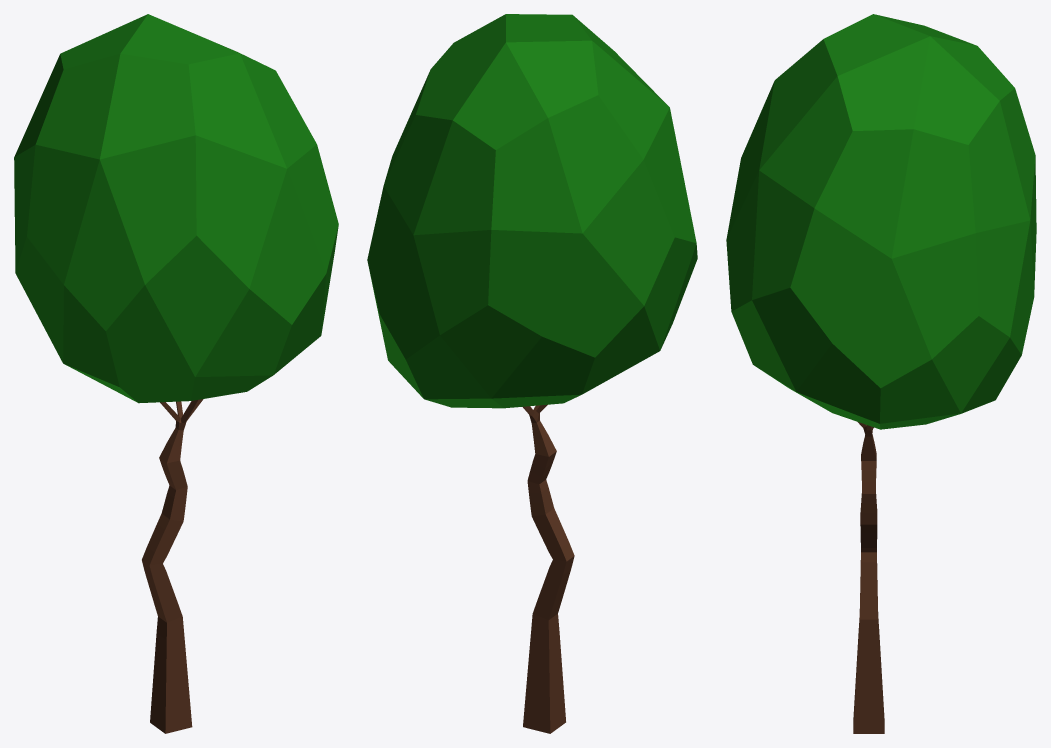
Rendered from arvore2.fbx.
The picture shows the model from 3 angles, left to right: view 1: azimuth 30°, elevation 25°; view 2: azimuth 150°, elevation 25°; view 3: azimuth 270°, elevation 25°; orthographic projection. The views are drawn at different scales.
Visible parts, largest first — view 1: Cube.003; view 2: Cube.003; view 3: Cube.003.
Part boxes in pixels (x1=…): Cube.003: x1=14, y1=14, x2=338, y2=733; Cube.003: x1=367, y1=14, x2=697, y2=733; Cube.003: x1=726, y1=14, x2=1036, y2=733.
Size of the model in its own units: 321 by 746 by 302.
